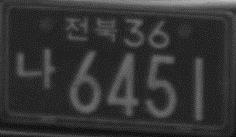1: (185, 56, 213, 120)
3: (123, 18, 144, 47)
4: (105, 52, 138, 115)
5: (145, 54, 178, 117)
6: (69, 49, 101, 114), (148, 19, 170, 48)
나: (15, 47, 55, 88)
전북_O: (65, 15, 117, 43)
